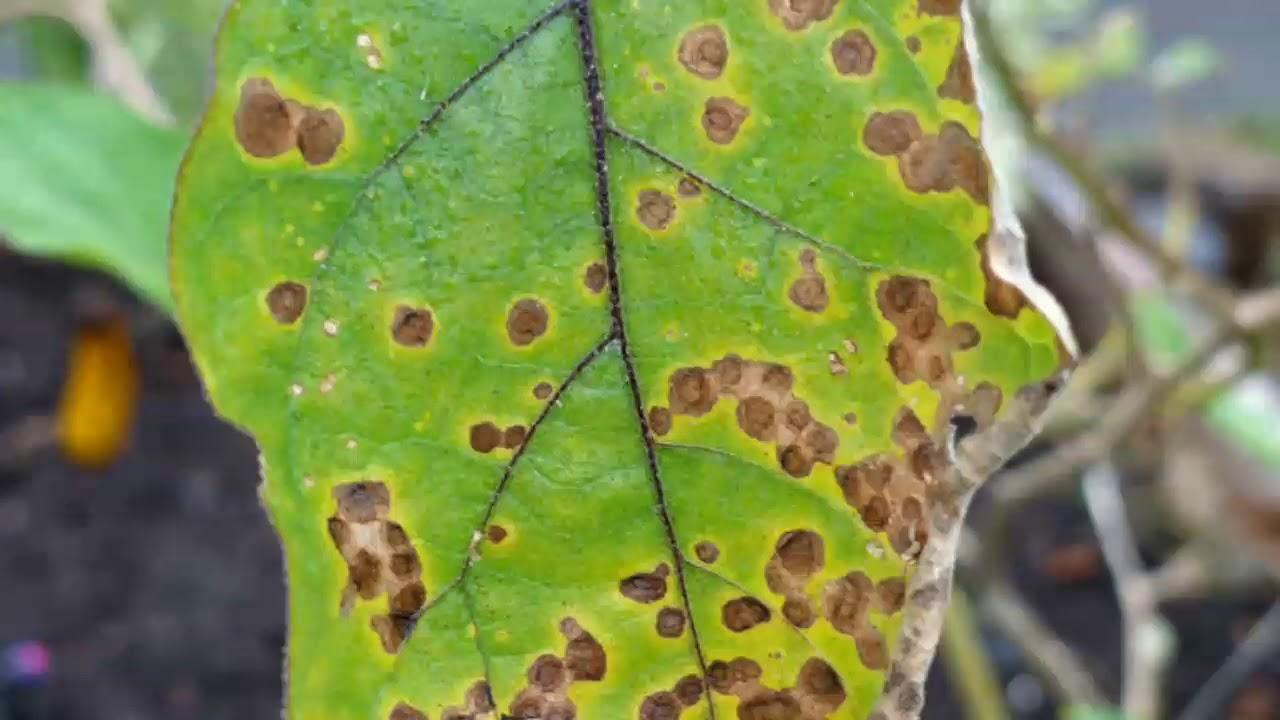black-spot: (219, 42, 599, 447)
